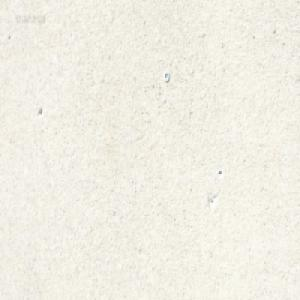Washer: (163, 71, 169, 82)
